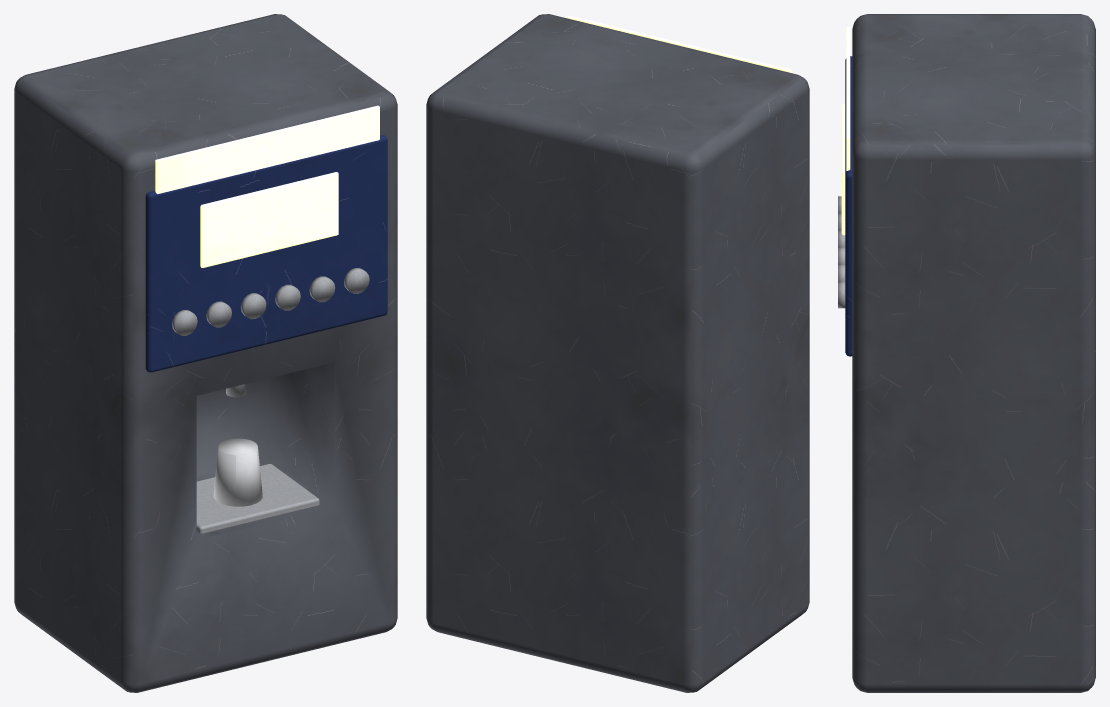
Rendered from CoffeeMachine.glb.
3 renders of one model, left to right at view 1: azimuth 30°, elevation 25°; view 2: azimuth 150°, elevation 25°; view 3: azimuth 270°, elevation 25°, orthographic. The views are drawn at different scales.
Parts seen in each view (by area): view 1: CoffeeMachine_MetalGrey, CoffeeMachine_MetalNavy, CoffeeMachine_PlasticWhite_glow.004, CoffeeMachine_Steel, CoffeeMachine_PlasticWhite; view 2: CoffeeMachine_MetalGrey, CoffeeMachine_PlasticWhite_glow.004; view 3: CoffeeMachine_MetalGrey, CoffeeMachine_MetalNavy, CoffeeMachine_PlasticWhite_glow.004, CoffeeMachine_Steel.
Boxes of the visible parts, x1=… form: CoffeeMachine_MetalGrey: x1=14, y1=14, x2=397, y2=692; CoffeeMachine_MetalNavy: x1=145, y1=135, x2=387, y2=372; CoffeeMachine_PlasticWhite_glow.004: x1=155, y1=105, x2=379, y2=267; CoffeeMachine_Steel: x1=172, y1=268, x2=369, y2=533; CoffeeMachine_PlasticWhite: x1=213, y1=438, x2=262, y2=506; CoffeeMachine_MetalGrey: x1=426, y1=14, x2=809, y2=692; CoffeeMachine_PlasticWhite_glow.004: x1=567, y1=15, x2=791, y2=72; CoffeeMachine_MetalGrey: x1=852, y1=14, x2=1095, y2=692; CoffeeMachine_MetalNavy: x1=845, y1=56, x2=852, y2=356; CoffeeMachine_PlasticWhite_glow.004: x1=841, y1=26, x2=850, y2=235; CoffeeMachine_Steel: x1=838, y1=196, x2=845, y2=308.
Size of the model in its own units: 3.2 by 6 by 2.54.
5 materials, 5 textured.
